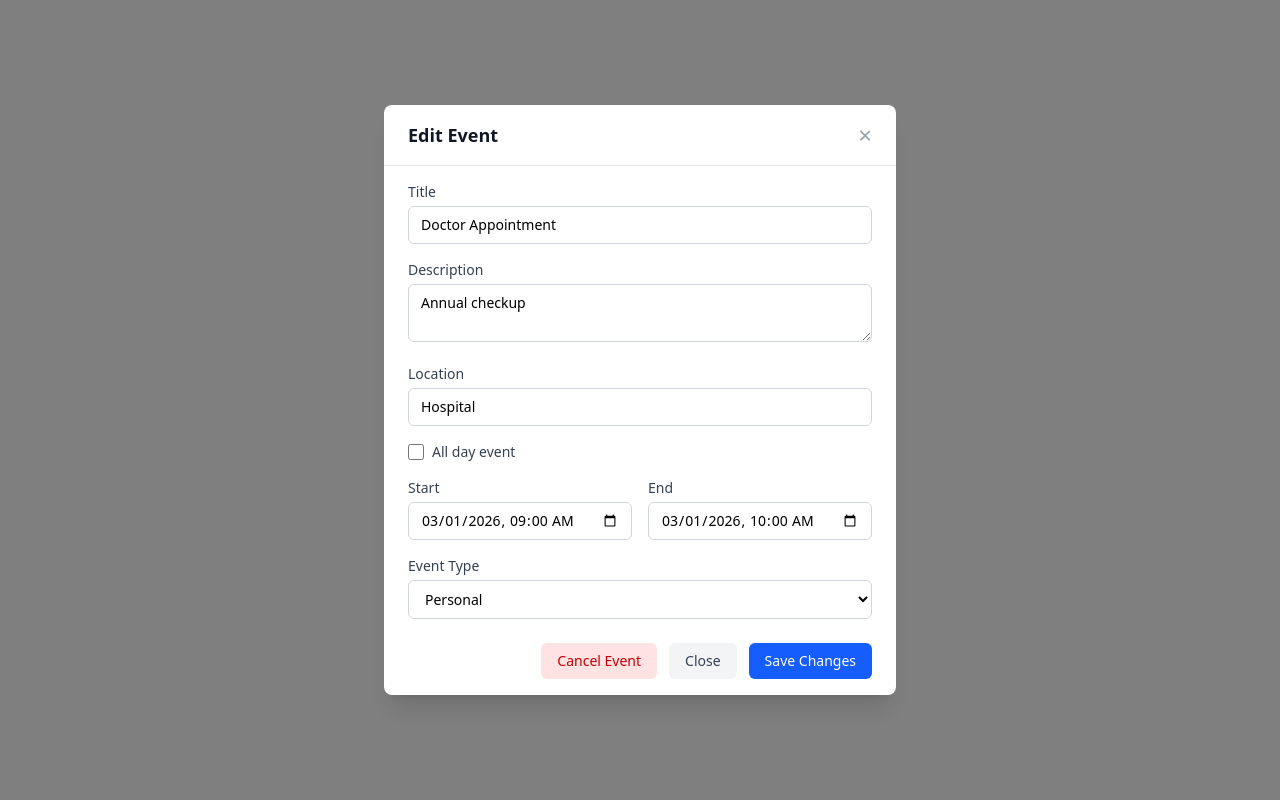
EventDialogComponent — Cancel Confirmation › should set error message on cancel failure
Click the button with test id "cancel-event-button": (599, 661) x1=541 y1=643 x2=657 y2=679
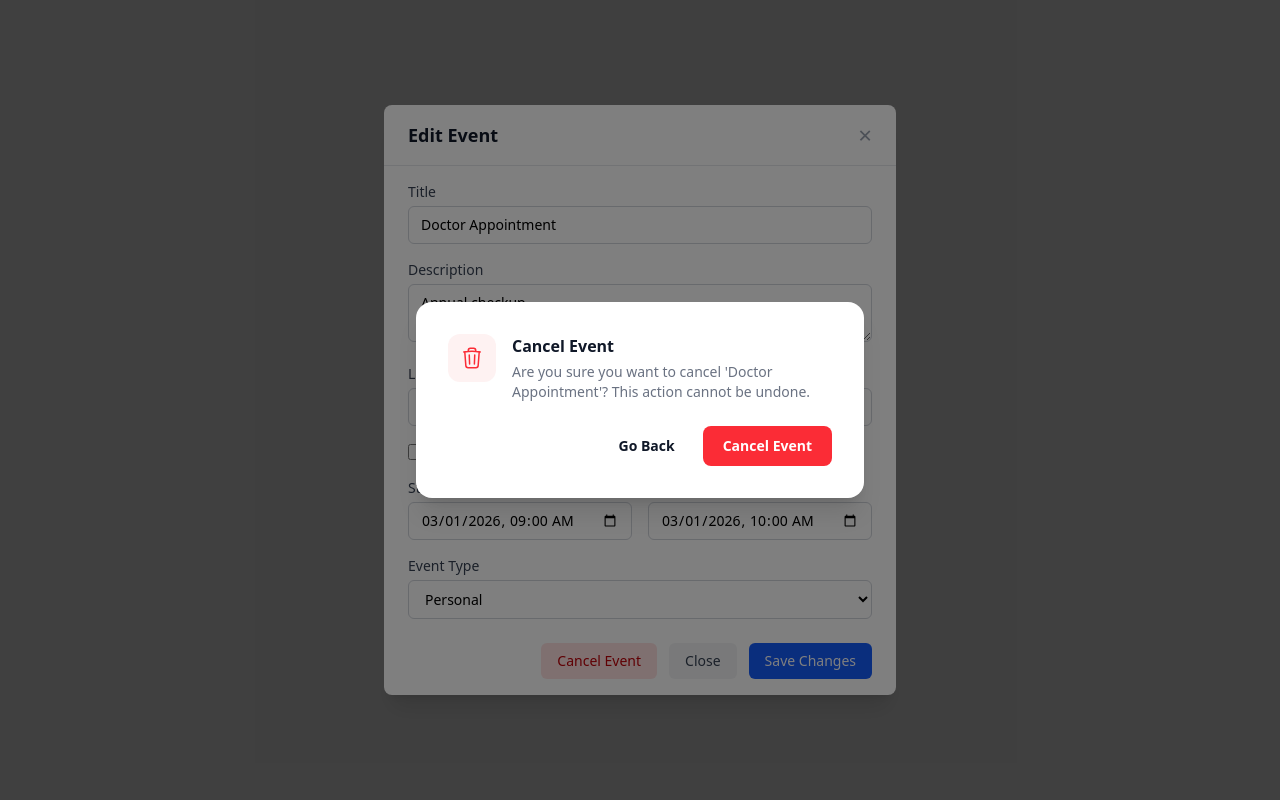
Click the button "Cancel Event": (767, 446) x1=703 y1=426 x2=832 y2=466
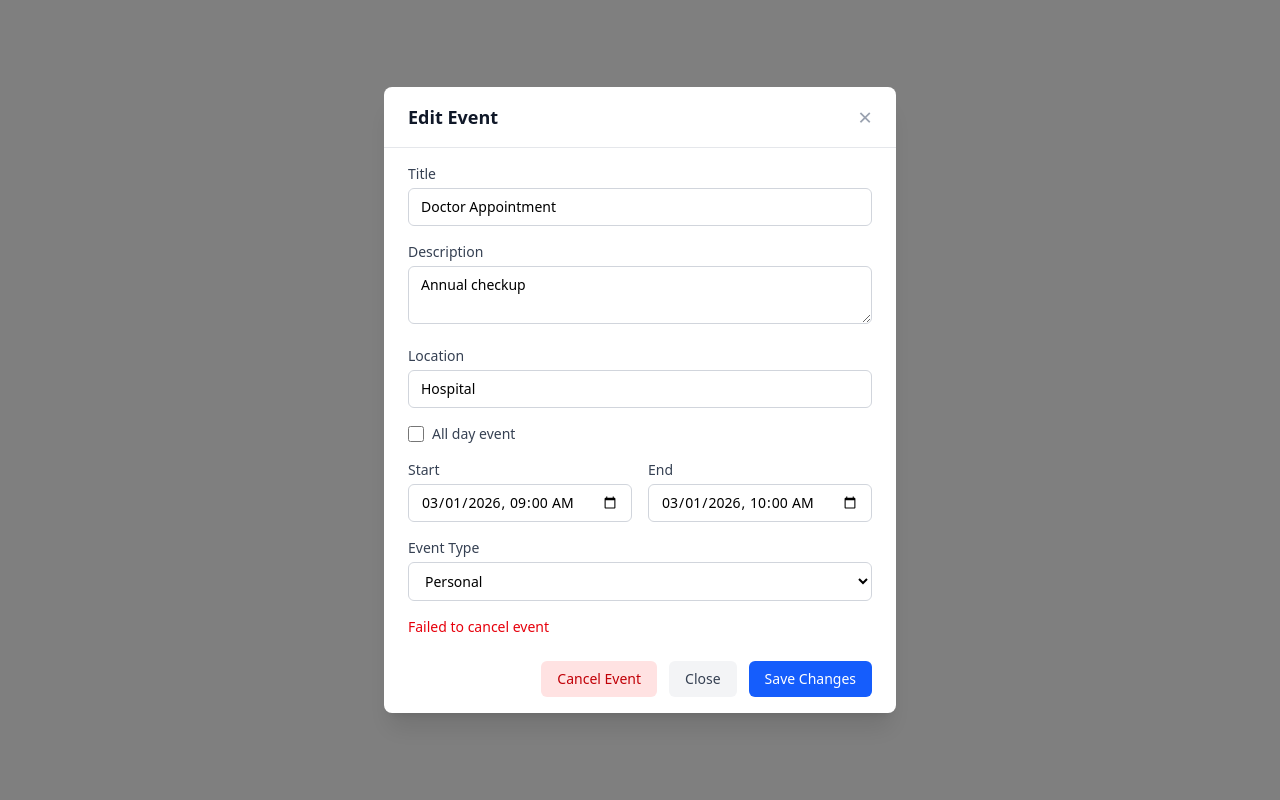
Check: the message "Failed to cancel event" is shown, box x1=408 y1=617 x2=549 y2=636
